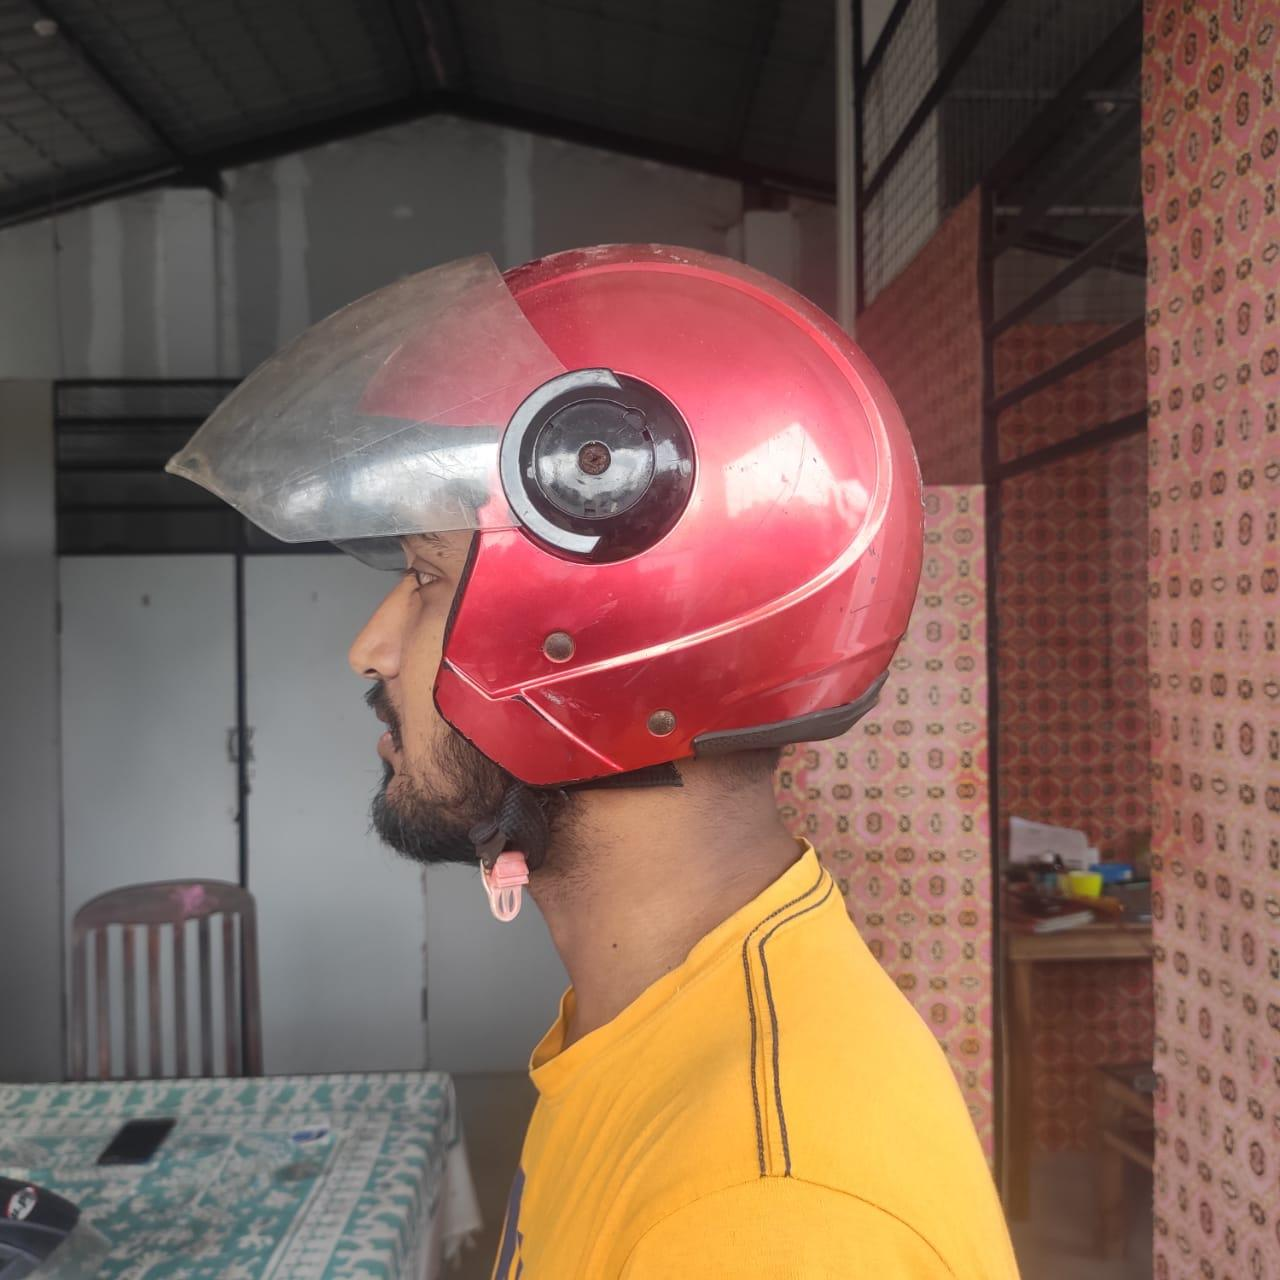helmet: (159, 236, 922, 790)
